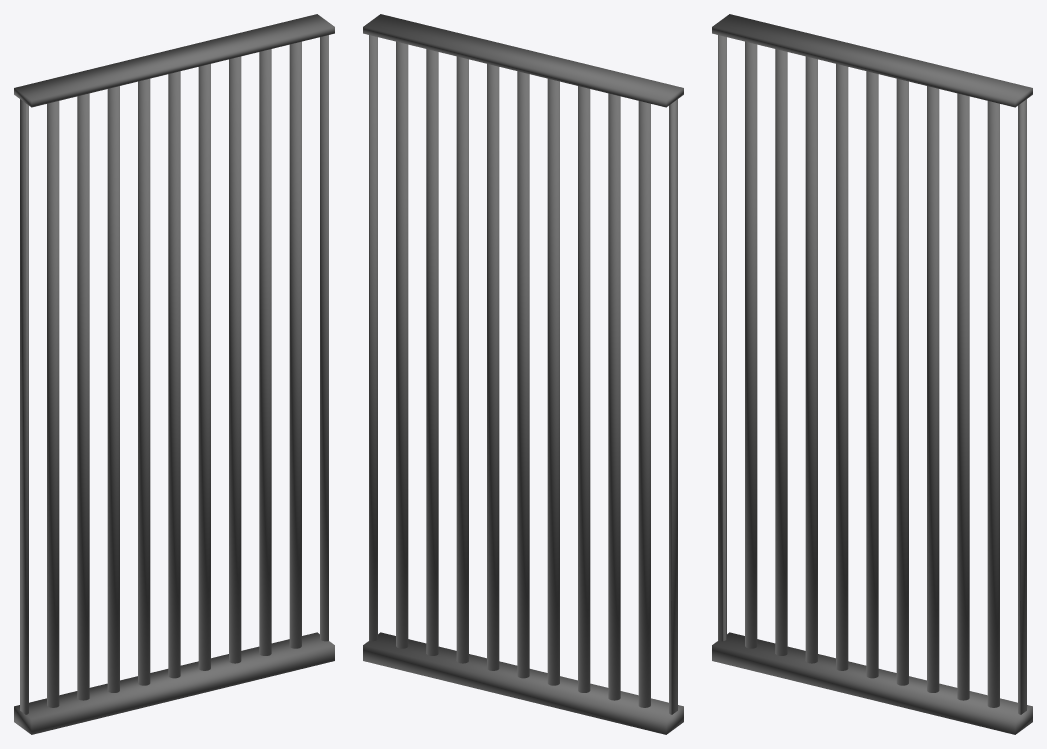
File: barreaux.fbx
3 views of the same model, side by side, from view 1: azimuth 30°, elevation 25°; view 2: azimuth 150°, elevation 25°; view 3: azimuth 330°, elevation 25° (orthographic).
Visible parts, largest first — view 1: Cube; view 2: Cube; view 3: Cube.
Boxes of the visible parts, x1,y1,x2,y2 form: Cube: [14, 14, 334, 734]; Cube: [363, 14, 683, 734]; Cube: [712, 14, 1032, 734].
Size of the model in its own units: 2 by 4 by 0.2.
1 material, 1 textured.
